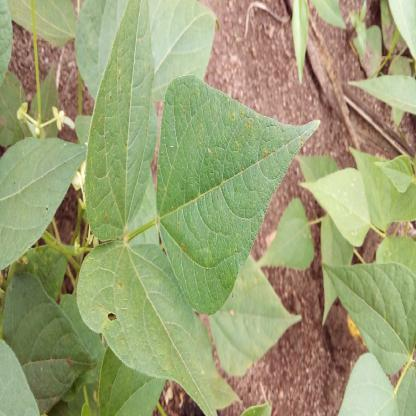Beans_Rust: (164, 85, 303, 308)
